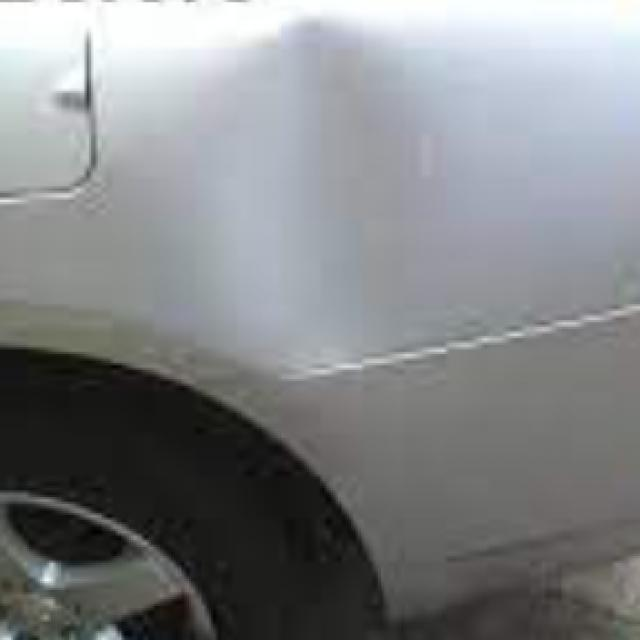dents: (214, 24, 469, 278)
